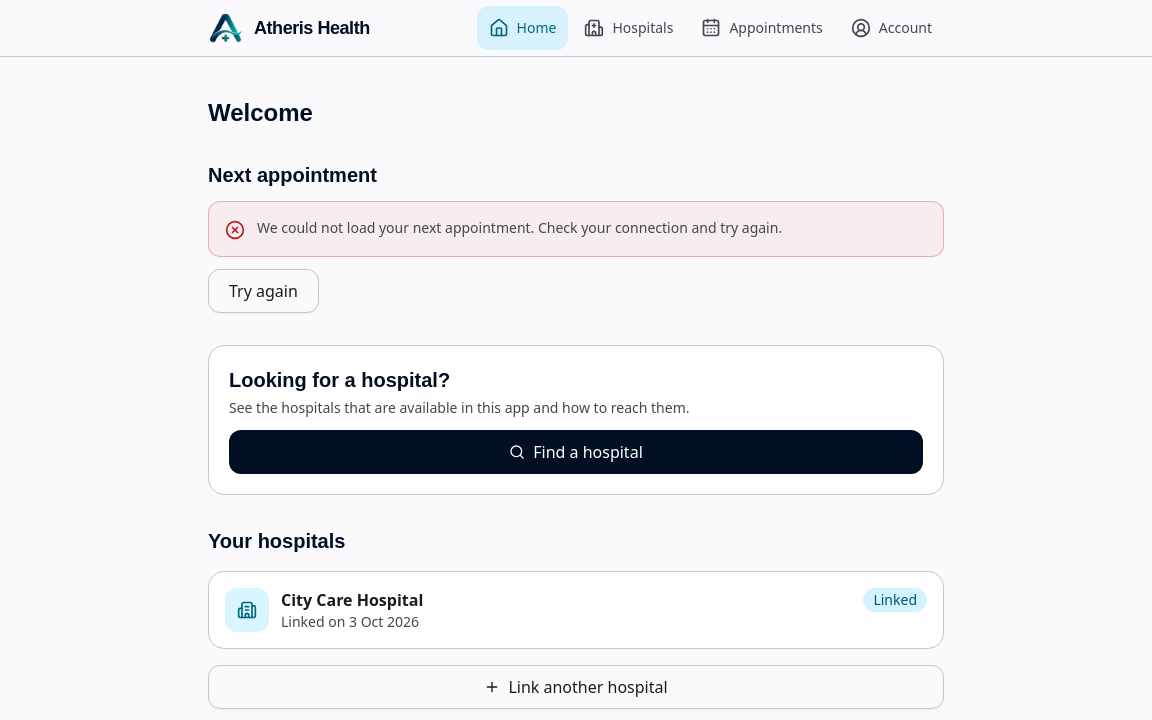
it: home — next appointment › fails on its own with a retry that works, leaving the rest of home in place
This screenshot has width=1152, height=720.
Expected: the message shows "We could not load your next appointment.", [257,218,782,237]
Expected: the link "City Care Hospital" is shown, [281,589,423,611]
Click the button "Try again" at [263, 291], box [208,269,319,313]
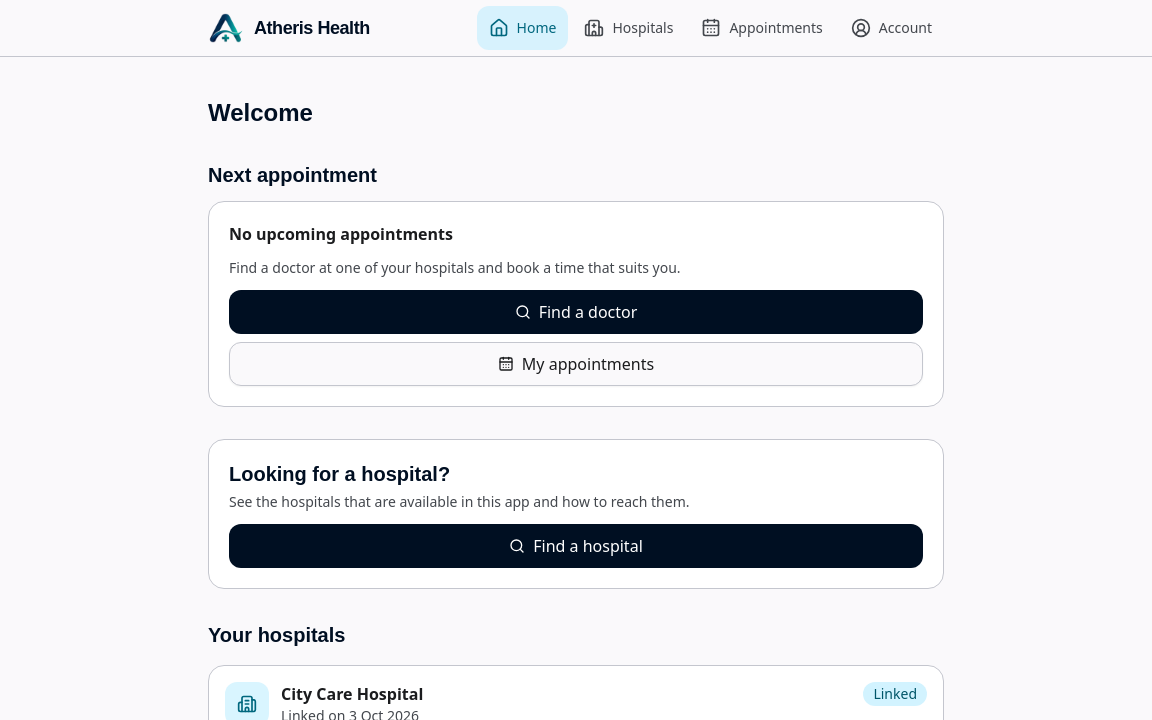
Now the text "No upcoming appointments" is shown, box [229,223,453,245]
Now the message "We could not load your next appointment. Check your connection and try again." is gone
